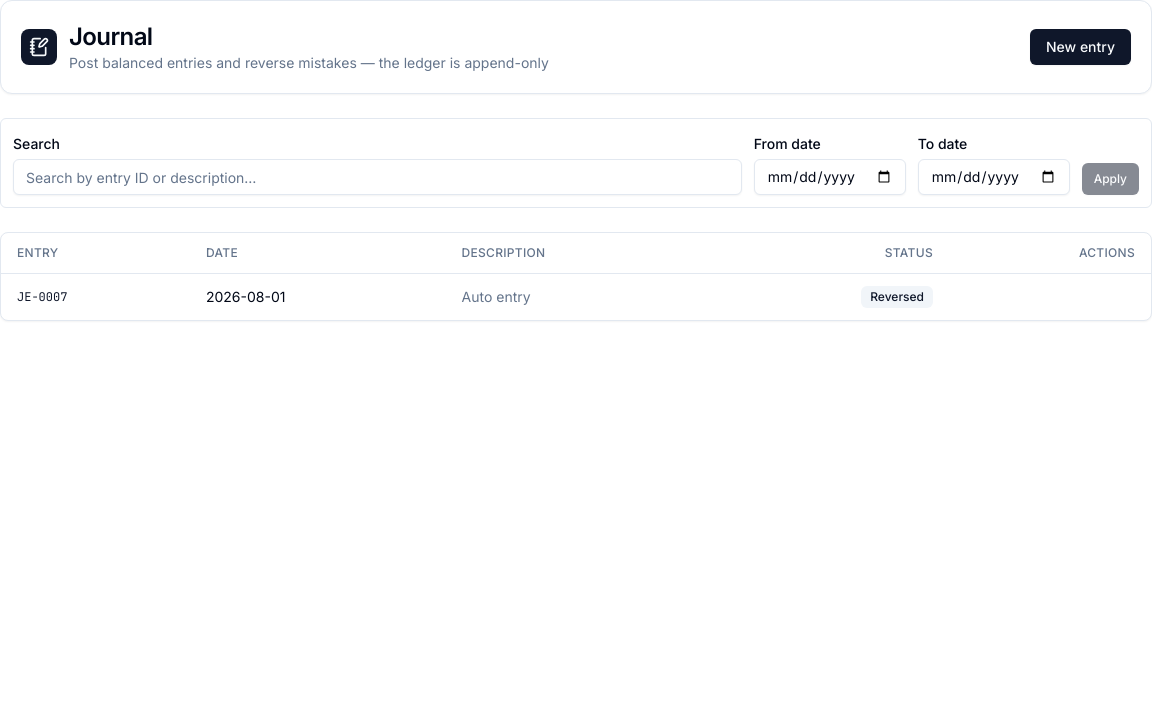
Scenario: JournalView — modal system actors + reversal trail (ACC-2) › links a reversed entry to its reversing entry and navigates the modal
What coordinates should you click on to do the following:
click the button with aria-label "View entry details"
I would click on:
 (42, 297)
Its box is [17,289,67,305].
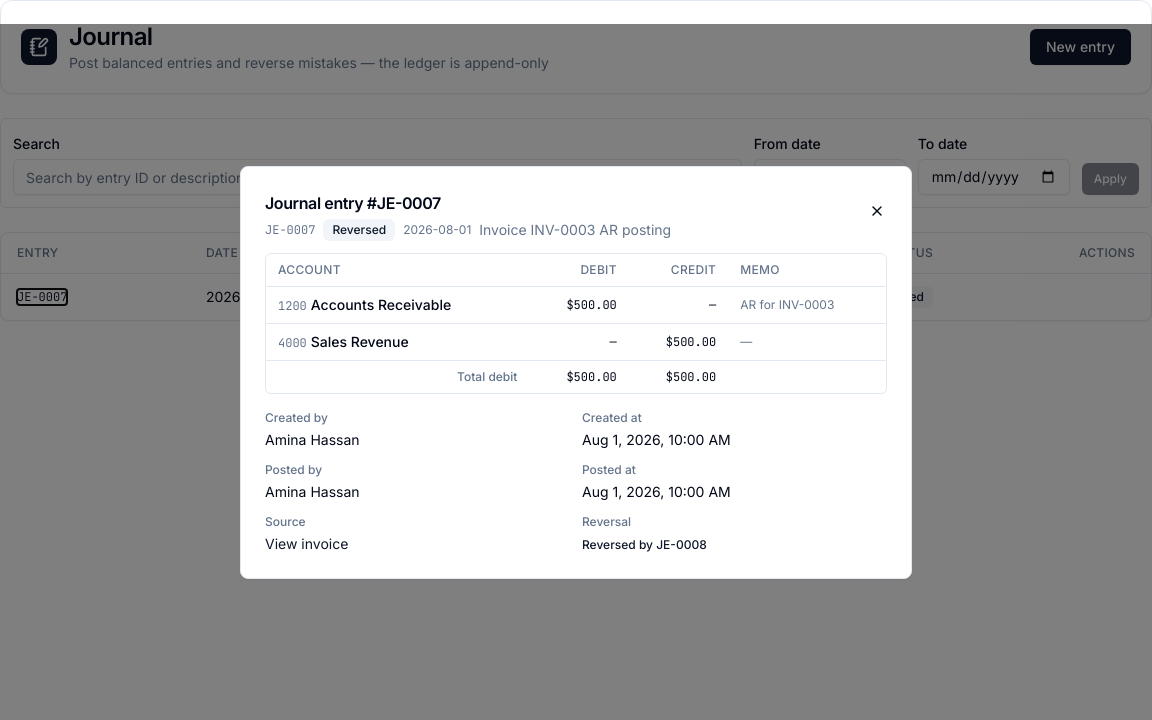
Expected: the button with aria-label "Open reversing entry JE-0008" is shown
Expected: the button "Reversed by JE-0008" is shown
Note: Clicking it swaps the modal content to the reversing entry.
What coordinates should you click on to do the following:
click the button "Reversed by JE-0008"
I would click on:
 (644, 544)
Its box is [582,536,707,552].
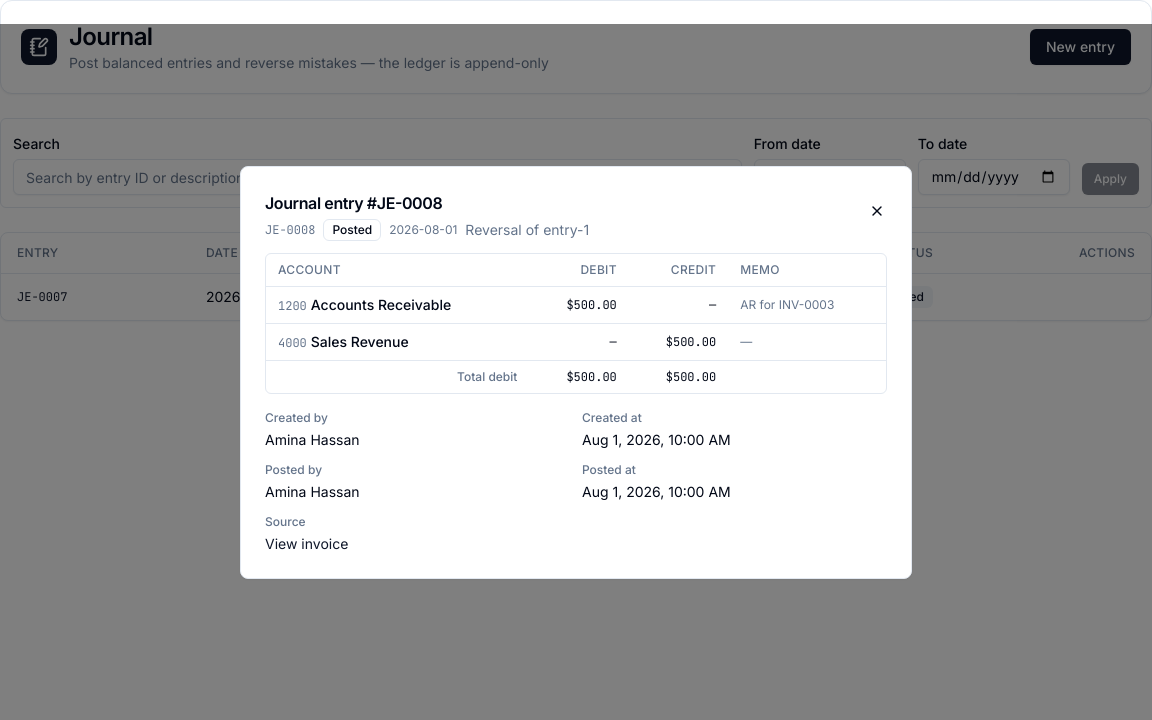
Expected: the heading "Journal entry #JE-0008" is shown, [265,192,442,212]
Expected: the text "Reversal of entry-1" is shown, [465,220,589,240]
